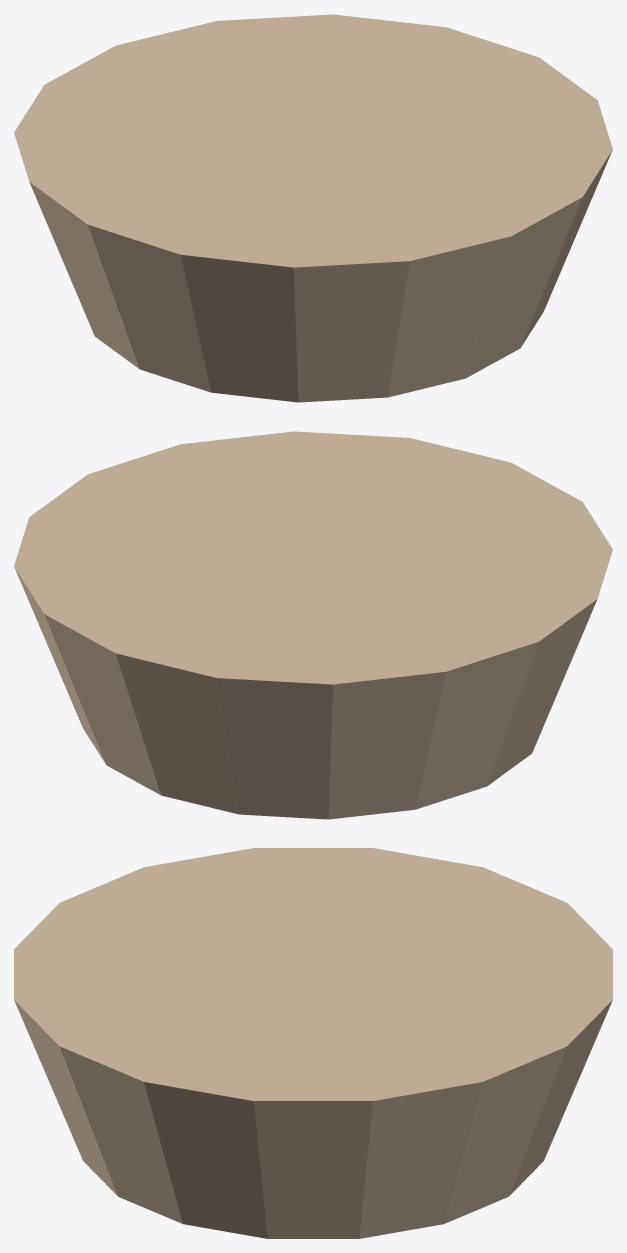
Rendered from fairing_s1_collider.obj.
3 renders of one model, top to bottom at view 1: azimuth 30°, elevation 25°; view 2: azimuth 150°, elevation 25°; view 3: azimuth 270°, elevation 25°, orthographic.
Visible parts, largest first — view 1: collider; view 2: collider; view 3: collider.
Boxes of the visible parts, x1=… form: collider: x1=14, y1=14, x2=612, y2=402; collider: x1=14, y1=431, x2=612, y2=819; collider: x1=14, y1=848, x2=612, y2=1238.
Size of the model in its own units: 1.62 by 0.5 by 1.62.
